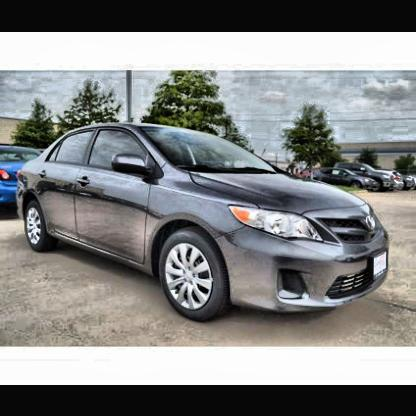Toyota Corolla Sedan 2012: (19, 124, 390, 326)
